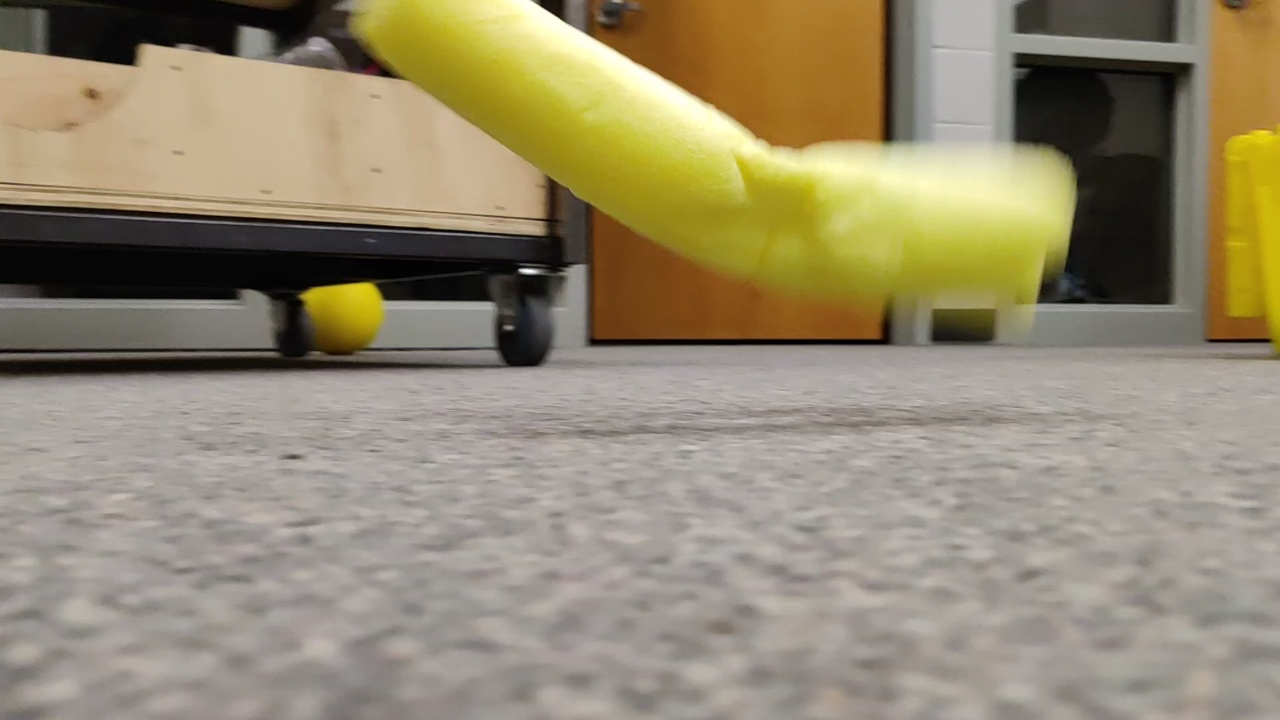Ball: (275, 273, 374, 350)
